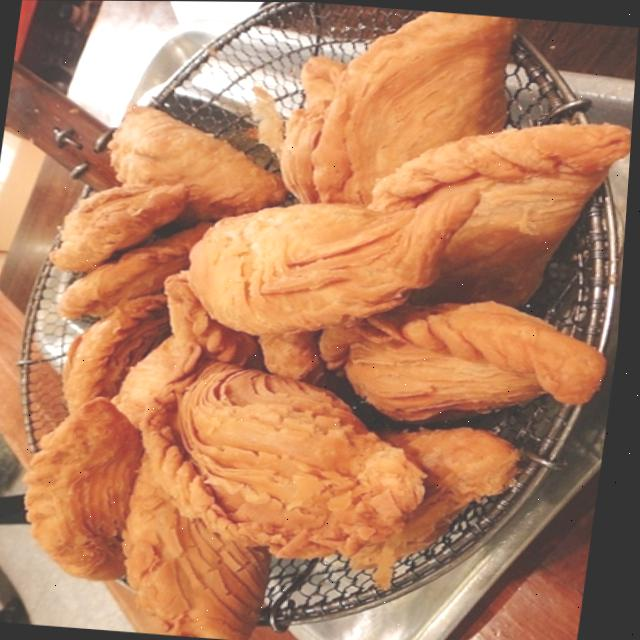炸货点心: (0, 0, 626, 640)
